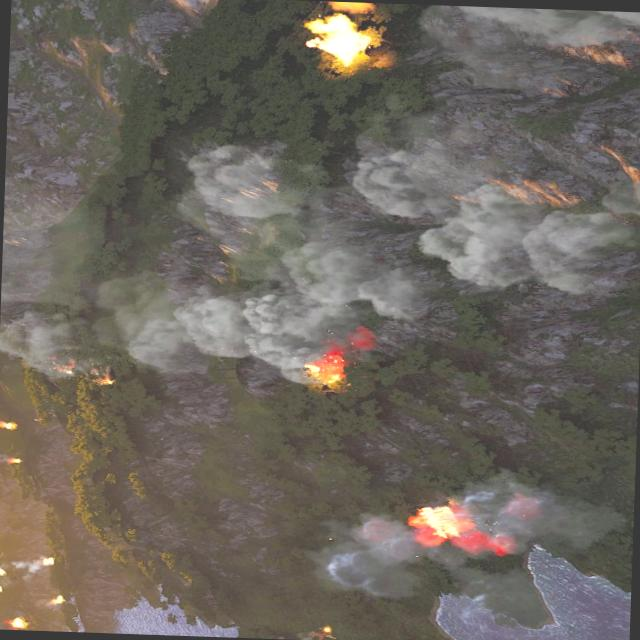fire: (304, 0, 380, 70), (409, 505, 468, 543), (304, 346, 352, 384), (49, 359, 74, 374), (316, 624, 336, 638), (94, 374, 116, 384), (11, 616, 27, 628), (0, 418, 16, 427), (51, 594, 64, 603), (41, 556, 53, 564), (7, 456, 20, 462), (0, 565, 6, 573), (0, 586, 2, 592)
smoke: (2, 118, 640, 394), (304, 467, 626, 610), (444, 4, 640, 48), (12, 556, 44, 574), (0, 452, 9, 462)
